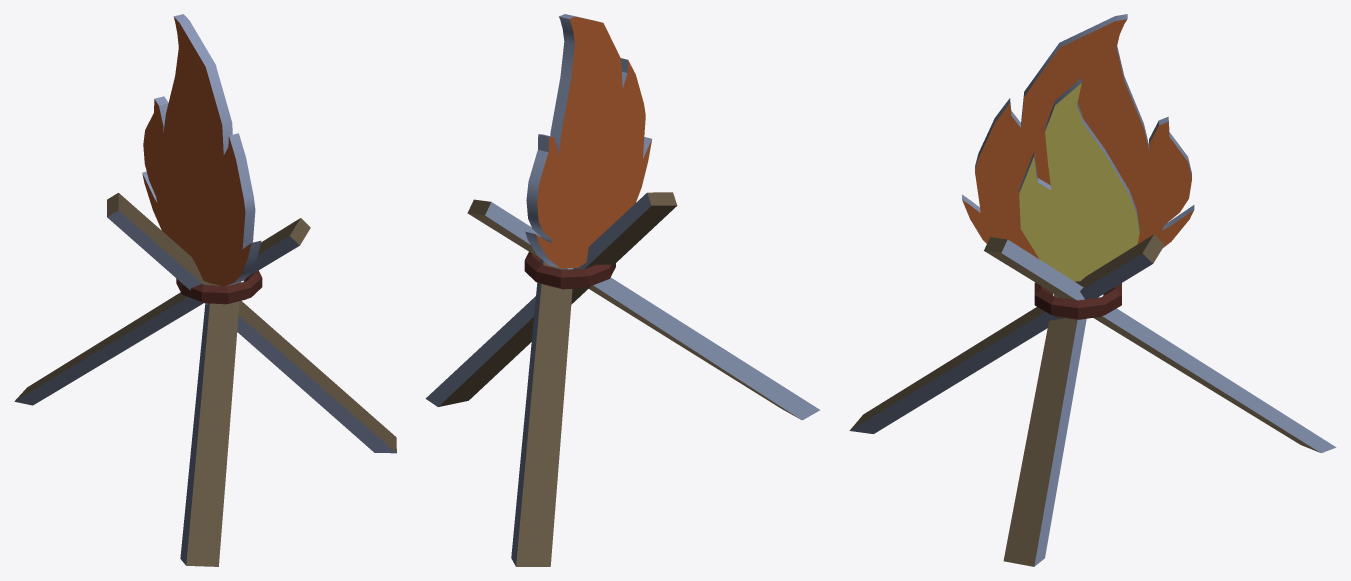
Rendered from Fire_StandUP.fbx.
The picture shows the model from 3 angles, left to right: view 1: azimuth 30°, elevation 25°; view 2: azimuth 150°, elevation 25°; view 3: azimuth 270°, elevation 25°; orthographic projection. The views are drawn at different scales.
Visible parts, largest first — view 1: Wood, Big_flame, String; view 2: Wood, Big_flame, String; view 3: Wood, Big_flame, SmallFlame, String.
Boxes of the visible parts, x1,y1,x2,y2 form: Wood: (14, 193, 396, 566); Big_flame: (142, 14, 261, 286); String: (176, 270, 262, 304); Wood: (425, 192, 819, 566); Big_flame: (525, 14, 651, 267); String: (524, 252, 615, 289); Wood: (849, 234, 1336, 566); Big_flame: (962, 14, 1194, 259); SmallFlame: (1019, 78, 1139, 281); String: (1034, 282, 1121, 319).
Bounding box in the file's own units: 9.8 × 13.98 × 13.37.
